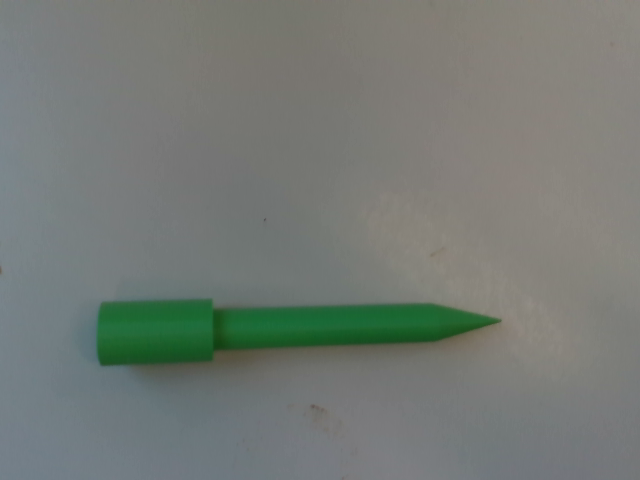Probe: (91, 289, 512, 369)
